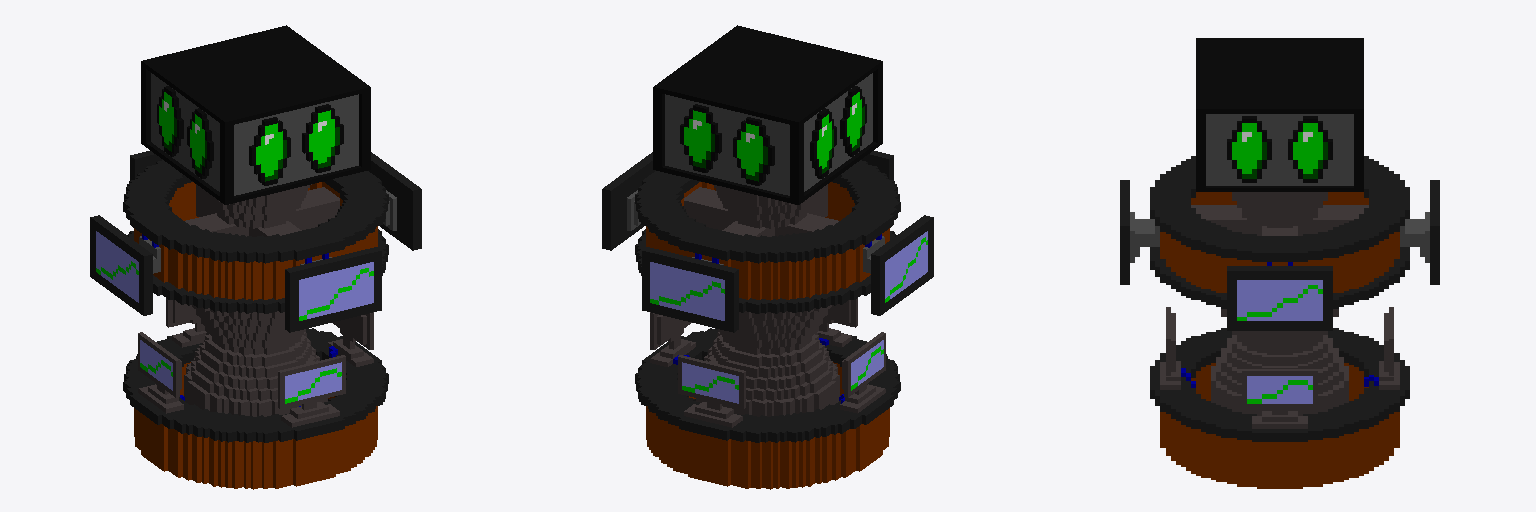
3 views of the same model, side by side, from view 1: azimuth 30°, elevation 25°; view 2: azimuth 150°, elevation 25°; view 3: azimuth 270°, elevation 25° (orthographic).
Visible parts, largest first — view 1: object 1; view 2: object 1; view 3: object 1.
Boxes of the visible parts, <box> form: object 1: <box>90,25,421,489</box>; object 1: <box>602,25,933,489</box>; object 1: <box>1120,38,1439,488</box>.
Size of the model in its own units: 6.3 by 7.9 by 6.3.
1 materials, 1 textured.